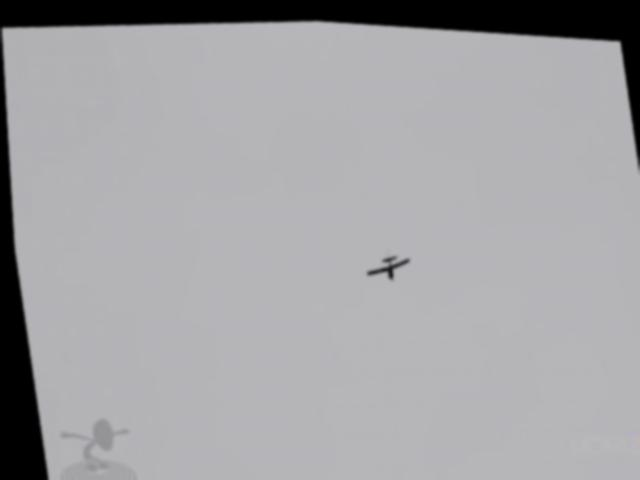uav: (355, 241, 412, 279)
